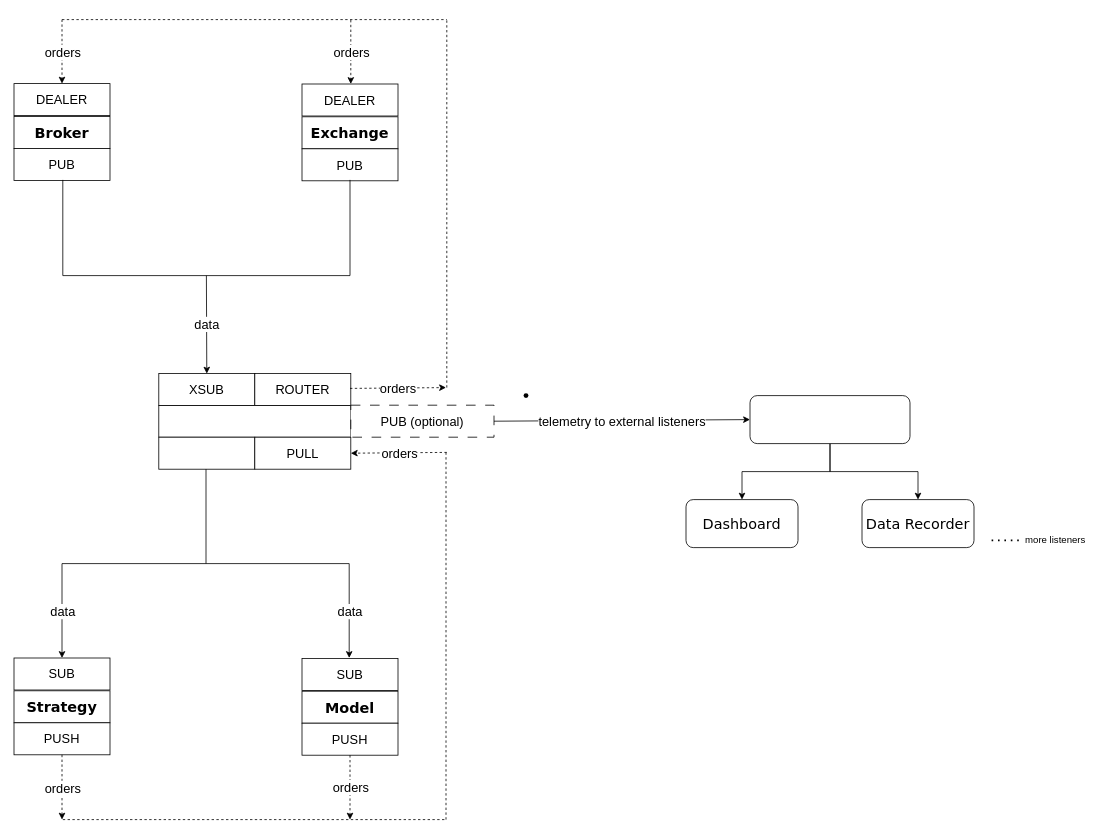
Some shapes in this 1102 by 840 pixel diagram are drawn without their labels. The centre of each missing label's shape, as x and y in pixels:
PFund Engine: (x=254, y=421)
WebSocket Server: (x=829, y=419)
XPUB: (x=206, y=452)
